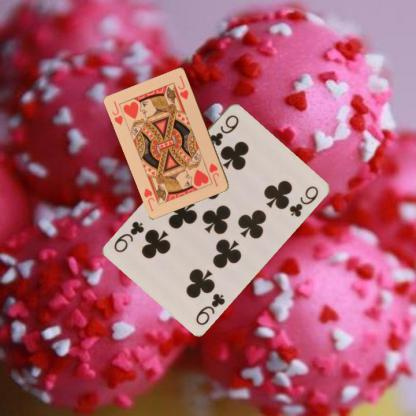9c: (192, 290, 226, 326), (207, 112, 240, 148)
Jh: (207, 160, 221, 188), (110, 99, 124, 126)
